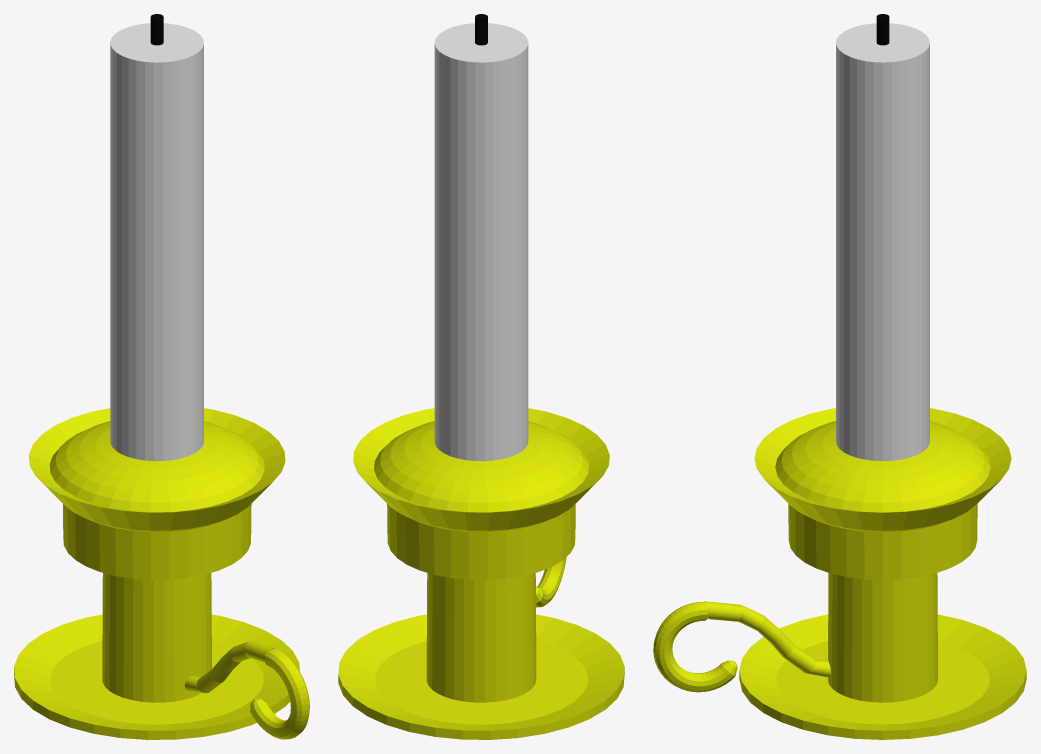
The model's file is Candle.fbx.
The picture shows the model from 3 angles, left to right: view 1: azimuth 30°, elevation 25°; view 2: azimuth 150°, elevation 25°; view 3: azimuth 270°, elevation 25°; orthographic projection.
Parts seen in each view (by area): view 1: CandleHolder, Candle; view 2: CandleHolder, Candle; view 3: CandleHolder, Candle.
Boxes of the visible parts, left/top/right/bottom form: CandleHolder: left=14, top=408, right=309, bottom=739; Candle: left=110, top=14, right=203, bottom=461; CandleHolder: left=338, top=408, right=624, bottom=739; Candle: left=434, top=14, right=528, bottom=461; CandleHolder: left=653, top=408, right=1026, bottom=739; Candle: left=836, top=14, right=929, bottom=461.
Bounding box in the file's own units: 50.61 × 132 × 65.92.
